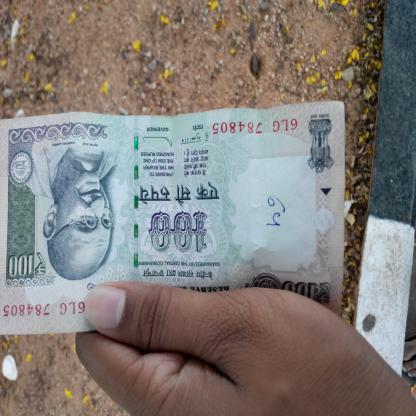Old100Front: (0, 98, 347, 336)
